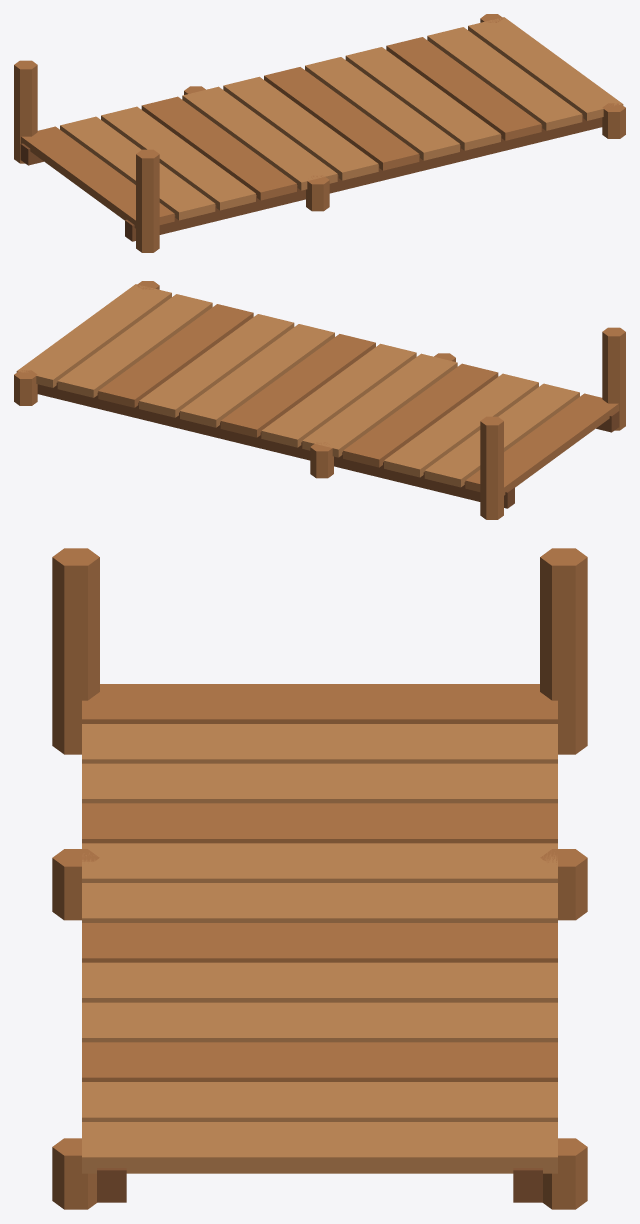
File: jetty_wood.glb
3 views of the same model, one above another, from view 1: azimuth 30°, elevation 25°; view 2: azimuth 150°, elevation 25°; view 3: azimuth 270°, elevation 25° (orthographic). The views are drawn at different scales.
Parts seen in each view (by area): view 1: jetty_wood; view 2: jetty_wood; view 3: jetty_wood.
Part boxes in pixels (<box>): jetty_wood: <box>14,14,625,252</box>; jetty_wood: <box>14,281,625,519</box>; jetty_wood: <box>52,548,587,1209</box>.
Bounding box in the file's own units: 3.8 × 0.7 × 1.8.
Materials: 1 (1 with a texture image).
